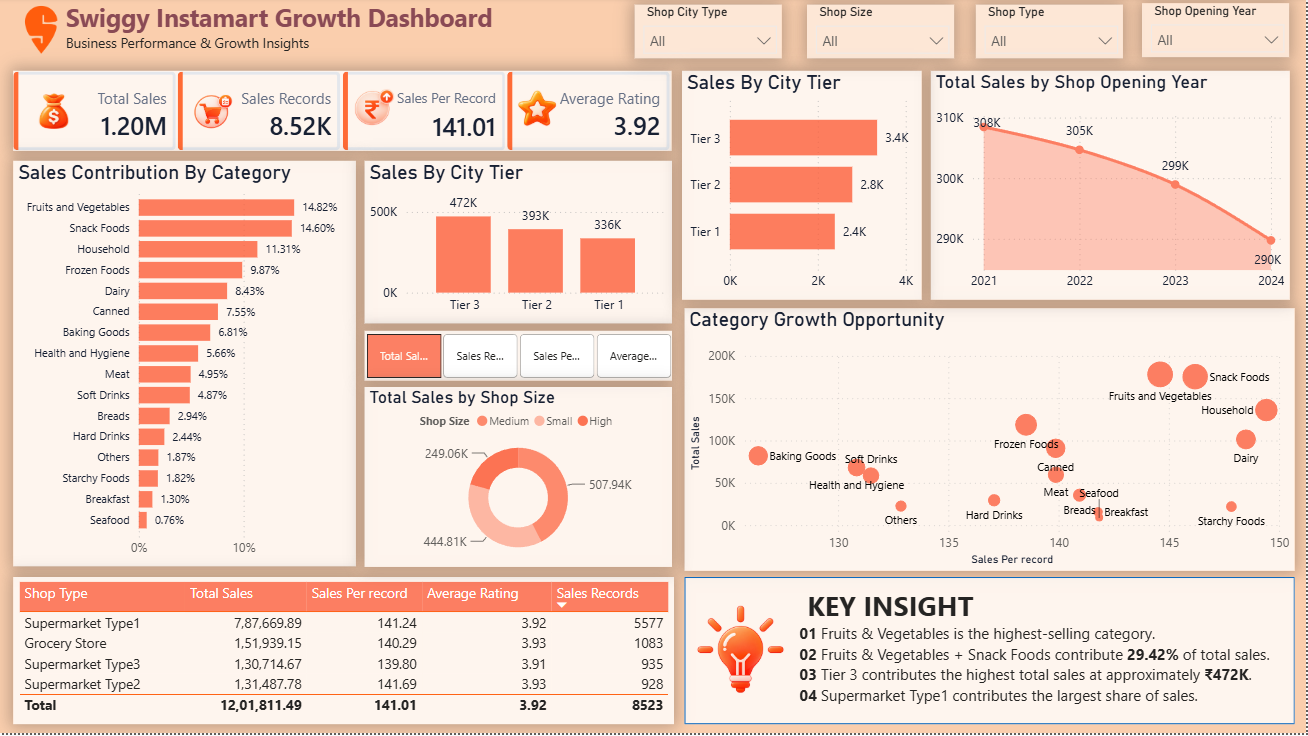

What the dashboard file says about the page in this screenshot:
{"tool":"powerbi","page":{"name":"Page 1","canvas":[1280,720],"ordinal":0},"visuals":[{"type":"cardVisual","fields":{"Data":["KPI's.Total_sales","KPI's.Sales Records","KPI's.Sales/Record","KPI's.Average Rating"]},"box":[16,72,644,78],"z":0},{"type":"clusteredBarChart","title":"Sales Contribution By Category","fields":{"Category":["Grocery Shop.Category"],"Y":["DAX.Sales % Of Total"]},"box":[16,160,335,397],"z":1000},{"type":"clusteredColumnChart","title":"Sales By City Tier","fields":{"Y":["KPI's.Total Sales"],"Category":["Grocery Shop.Shop City Type"]},"box":[359,160,301,159],"z":2000},{"type":"tableEx","title":"Sales By Shop Type ","fields":{"Values":["Grocery Shop.Shop Type","KPI's.Total Sales","KPI's.Sales/Record","KPI's.Average Rating","KPI's.Sales Records"]},"box":[16,567,646,144],"z":3000},{"type":"scatterChart","title":"Category Growth Opportunity","fields":{"Category":["Grocery Shop.Category"],"X":["KPI's.Sales/Record"],"Y":["KPI's.Total Sales"],"Size":["KPI's.Sales Records"]},"box":[672,304,597,257],"z":4000},{"type":"advancedSlicerVisual","fields":{"Values":["Parameter.Parameter"]},"box":[359,327,301,49],"z":5000},{"type":"donutChart","fields":{"Y":["KPI's.Average Rating"],"Category":["Grocery Shop.Shop Size"]},"box":[359,381,301,176],"z":6000},{"type":"areaChart","fields":{"Category":["Grocery Shop.Shop Opening Year"],"Y":["KPI's.Total Sales"]},"box":[914,72,351,224],"z":7000},{"type":"clusteredBarChart","title":"Sales By City Tier","fields":{"Category":["Grocery Shop.Shop City Type"],"Y":["KPI's.Sales Records"]},"box":[670,72,234,224],"z":8000},{"type":"image","box":[0,0,86,64],"z":9000},{"type":"textbox","box":[67,4,549,60],"z":10000},{"type":"slicer","fields":{"Values":["Grocery Shop.Shop City Type"]},"box":[624,7,144,53],"z":11000},{"type":"slicer","fields":{"Values":["Grocery Shop.Shop Opening Year"]},"box":[1120,6,144,53],"z":12000},{"type":"slicer","fields":{"Values":["Grocery Shop.Shop Type"]},"box":[958,7,144,53],"z":13000},{"type":"shape","box":[672,567,597,144],"z":14000},{"type":"slicer","fields":{"Values":["Grocery Shop.Shop Size"]},"box":[792,7,144,53],"z":15000},{"type":"textbox","box":[780,572,480,132],"z":16000},{"type":"image","box":[349,86,52,52],"z":17000},{"type":"image","box":[185,86,52,52],"z":18000},{"type":"image","box":[505,86,47,47],"z":19000},{"type":"image","box":[34,91,43,43],"z":20000},{"type":"image","box":[671,592,112,96],"z":21000}]}

Visuals, with their boxes in screenshot pixels (x1, y1, x2, y2), scaled from the page's 1280x720 canvas onto the 1308x736 screenshot:
cardVisual - KPI's.Total_sales x KPI's.Sales Records: box(16, 74, 674, 153)
"Sales Contribution By Category" clusteredBarChart: box(16, 164, 359, 569)
"Sales By City Tier" clusteredColumnChart: box(367, 164, 674, 326)
"Sales By Shop Type " tableEx: box(16, 580, 676, 727)
"Category Growth Opportunity" scatterChart: box(687, 311, 1297, 573)
advancedSlicerVisual - Parameter.Parameter: box(367, 334, 674, 384)
donutChart - KPI's.Average Rating x Grocery Shop.Shop Size: box(367, 389, 674, 569)
areaChart - Grocery Shop.Shop Opening Year x KPI's.Total Sales: box(934, 74, 1293, 303)
"Sales By City Tier" clusteredBarChart: box(685, 74, 924, 303)
image: box(0, 0, 88, 65)
textbox: box(68, 4, 629, 65)
slicer - Grocery Shop.Shop City Type: box(638, 7, 785, 61)
slicer - Grocery Shop.Shop Opening Year: box(1144, 6, 1292, 60)
slicer - Grocery Shop.Shop Type: box(979, 7, 1126, 61)
shape: box(687, 580, 1297, 727)
slicer - Grocery Shop.Shop Size: box(809, 7, 956, 61)
textbox: box(797, 585, 1288, 720)
image: box(357, 88, 410, 141)
image: box(189, 88, 242, 141)
image: box(516, 88, 564, 136)
image: box(35, 93, 79, 137)
image: box(686, 605, 800, 703)
